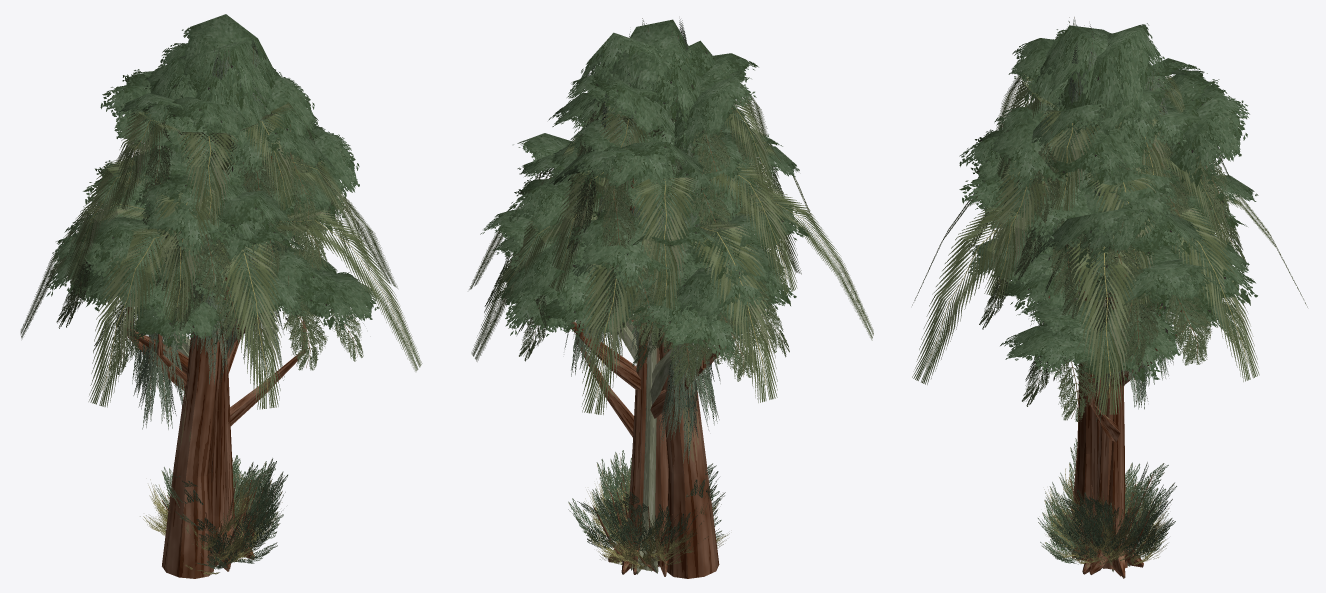
The model's file is ap_vegetacion.glb.
The picture shows the model from 3 angles, left to right: view 1: azimuth 30°, elevation 25°; view 2: azimuth 150°, elevation 25°; view 3: azimuth 270°, elevation 25°; orthographic projection. The views are drawn at different scales.
Parts seen in each view (by area): view 1: pino_3__malla, palmera_1__malla, pino_2__malla, pino_1__malla, eucalipto_2__malla, adelfa_1__malla, eucalipto_1__malla, adelfa_2__malla, mata_seca_3__malla, mata_seca_4__malla, mata_seca_1__malla; view 2: pino_3__malla, palmera_1__malla, pino_2__malla, pino_1__malla, eucalipto_2__malla, adelfa_2__malla, adelfa_1__malla, eucalipto_1__malla, mata_seca_4__malla, mata_seca_2__malla, mata_seca_3__malla; view 3: pino_3__malla, palmera_1__malla, pino_2__malla, pino_1__malla, adelfa_1__malla, adelfa_2__malla, mata_seca_2__malla, eucalipto_1__malla, mata_seca_4__malla, mata_seca_3__malla, eucalipto_2__malla.
Part boxes in pixels (bbox=[...]): pino_3__malla: bbox=[52, 14, 359, 571]; palmera_1__malla: bbox=[20, 102, 422, 578]; pino_2__malla: bbox=[46, 144, 338, 568]; pino_1__malla: bbox=[79, 181, 379, 425]; eucalipto_2__malla: bbox=[129, 47, 284, 429]; adelfa_1__malla: bbox=[161, 457, 287, 567]; eucalipto_1__malla: bbox=[137, 39, 268, 429]; adelfa_2__malla: bbox=[155, 455, 283, 569]; mata_seca_3__malla: bbox=[140, 474, 282, 566]; mata_seca_4__malla: bbox=[157, 469, 270, 552]; mata_seca_1__malla: bbox=[160, 507, 275, 577]; pino_3__malla: bbox=[506, 19, 811, 576]; palmera_1__malla: bbox=[469, 72, 873, 578]; pino_2__malla: bbox=[480, 97, 797, 574]; pino_1__malla: bbox=[492, 177, 791, 574]; eucalipto_2__malla: bbox=[571, 19, 709, 574]; adelfa_2__malla: bbox=[592, 450, 725, 550]; adelfa_1__malla: bbox=[568, 455, 723, 555]; eucalipto_1__malla: bbox=[564, 18, 720, 571]; mata_seca_4__malla: bbox=[591, 470, 707, 564]; mata_seca_2__malla: bbox=[584, 478, 703, 565]; mata_seca_3__malla: bbox=[605, 478, 721, 565]; pino_3__malla: bbox=[959, 23, 1249, 558]; palmera_1__malla: bbox=[912, 74, 1307, 528]; pino_2__malla: bbox=[959, 105, 1258, 576]; pino_1__malla: bbox=[968, 170, 1255, 578]; adelfa_1__malla: bbox=[1038, 443, 1175, 568]; adelfa_2__malla: bbox=[1040, 438, 1176, 564]; mata_seca_2__malla: bbox=[1045, 485, 1169, 565]; eucalipto_1__malla: bbox=[1030, 29, 1175, 571]; mata_seca_4__malla: bbox=[1046, 479, 1165, 560]; mata_seca_3__malla: bbox=[1044, 467, 1168, 559]; eucalipto_2__malla: bbox=[1029, 17, 1173, 536].
Bounding box in the file's own units: 5.6 × 8 × 5.46.
1 material, 1 textured.
